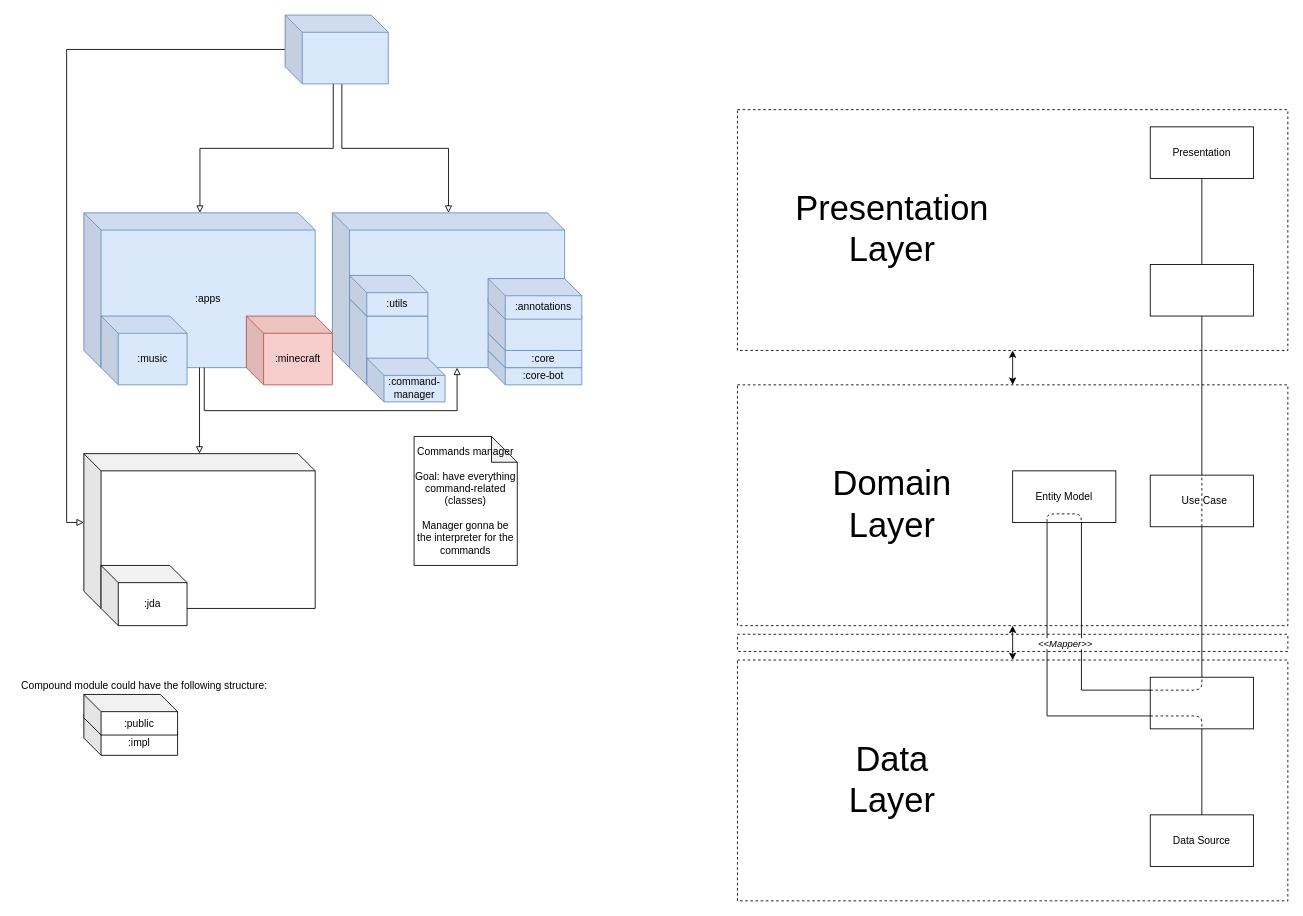
The diagram is 1303 pixels wide and 916 high, and some of its shapes have lost their labels. The shapes that lost their labels are listed below. From the top down, each one's box as (x1, y1, x2, y2) in pixels, then its label:
(284, 14, 388, 84): bot
(332, 212, 565, 368): :common
(1149, 264, 1253, 316): Controller
(349, 298, 428, 385): :plugins
(487, 298, 582, 350): :annotations-processor
(83, 453, 315, 608): :libraries
(737, 633, 1288, 651): Infra Layer
(1149, 676, 1253, 729): Repository
